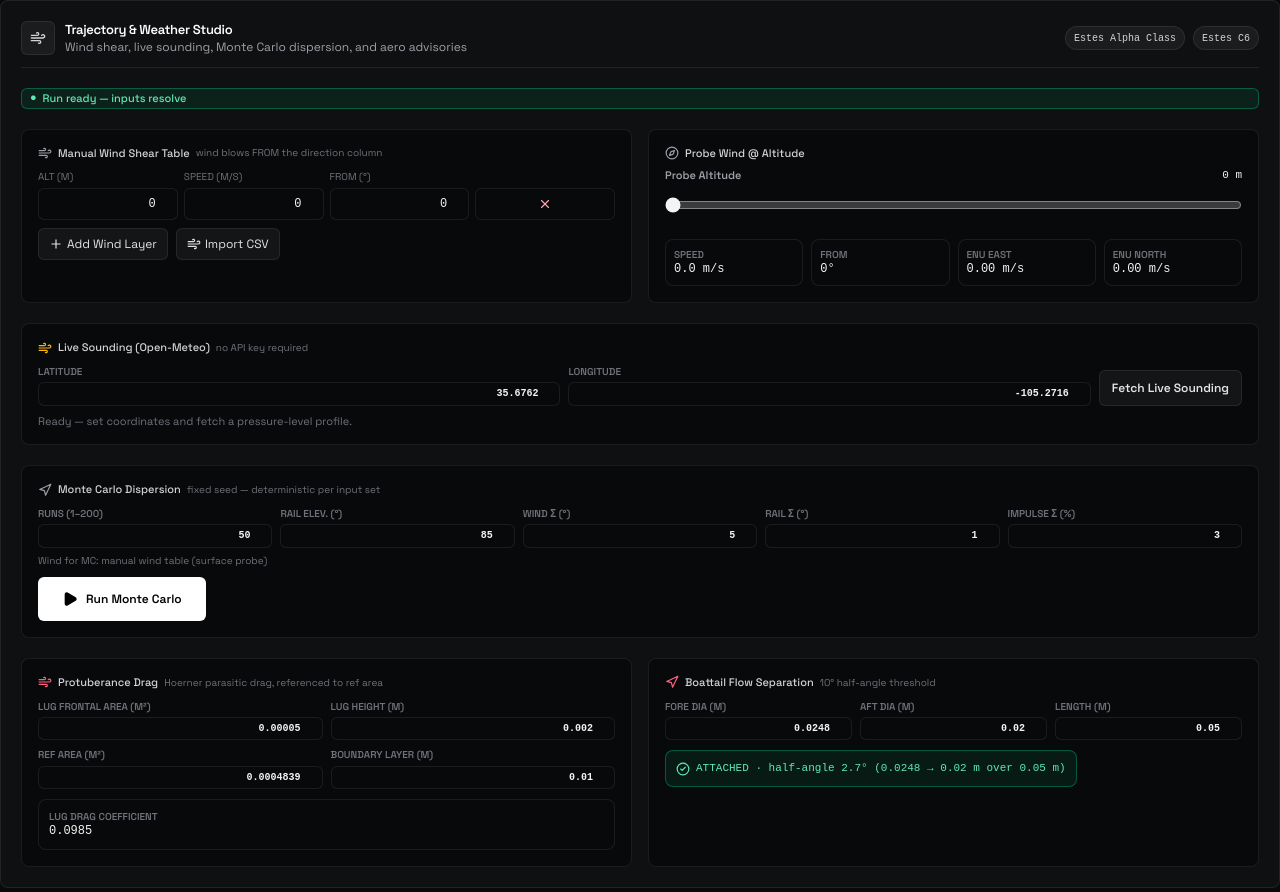
TrajectoryStudio › lets the user pin the rail to 90°, where the 1σ rail perturbation domain-rejects runs
This screenshot has width=1280, height=892.
Replace the text in the number field named "Monte Carlo run count" with "10" at [155, 536], box [38, 524, 272, 548]
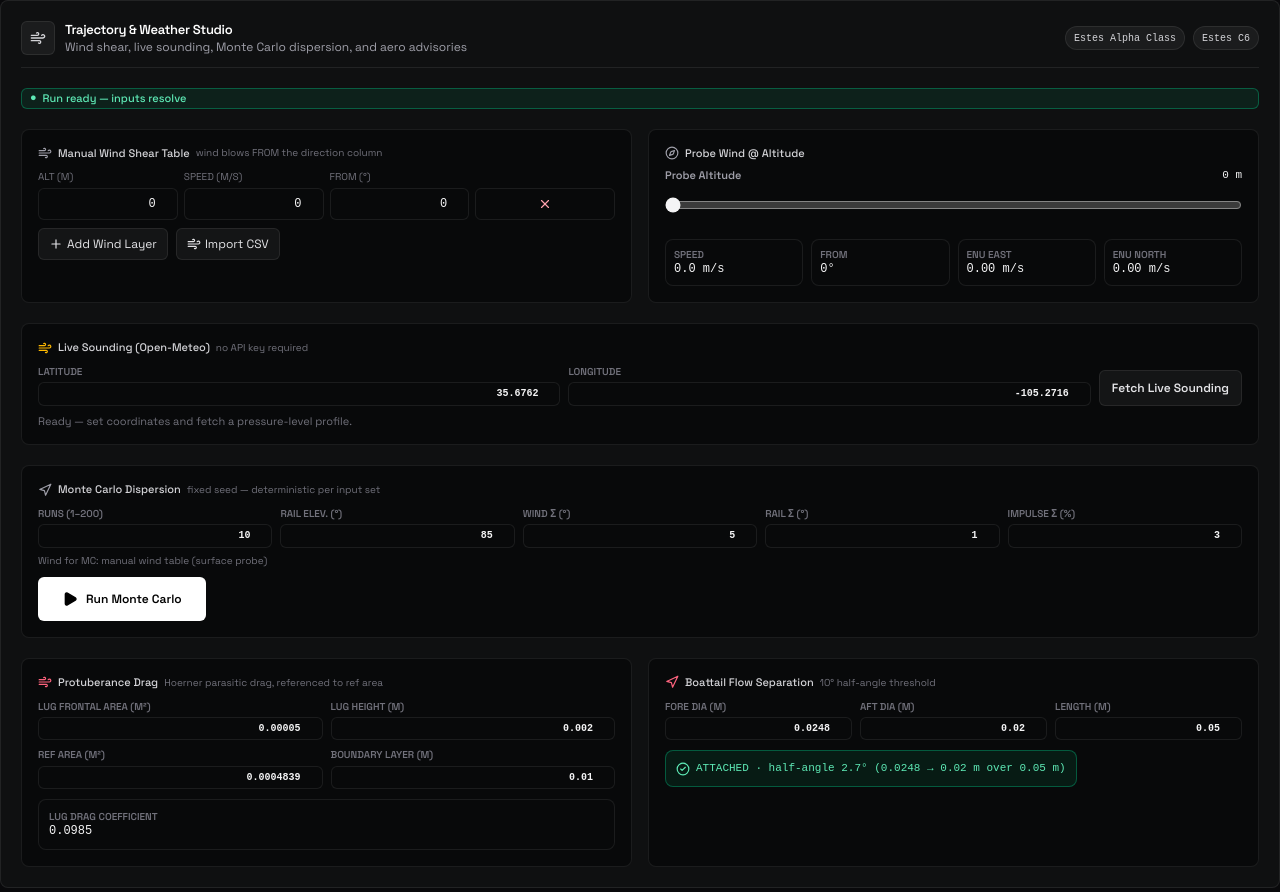
Replace the text in the number field named "Rail elevation (deg)" with "90" at [398, 536], box [280, 524, 515, 548]
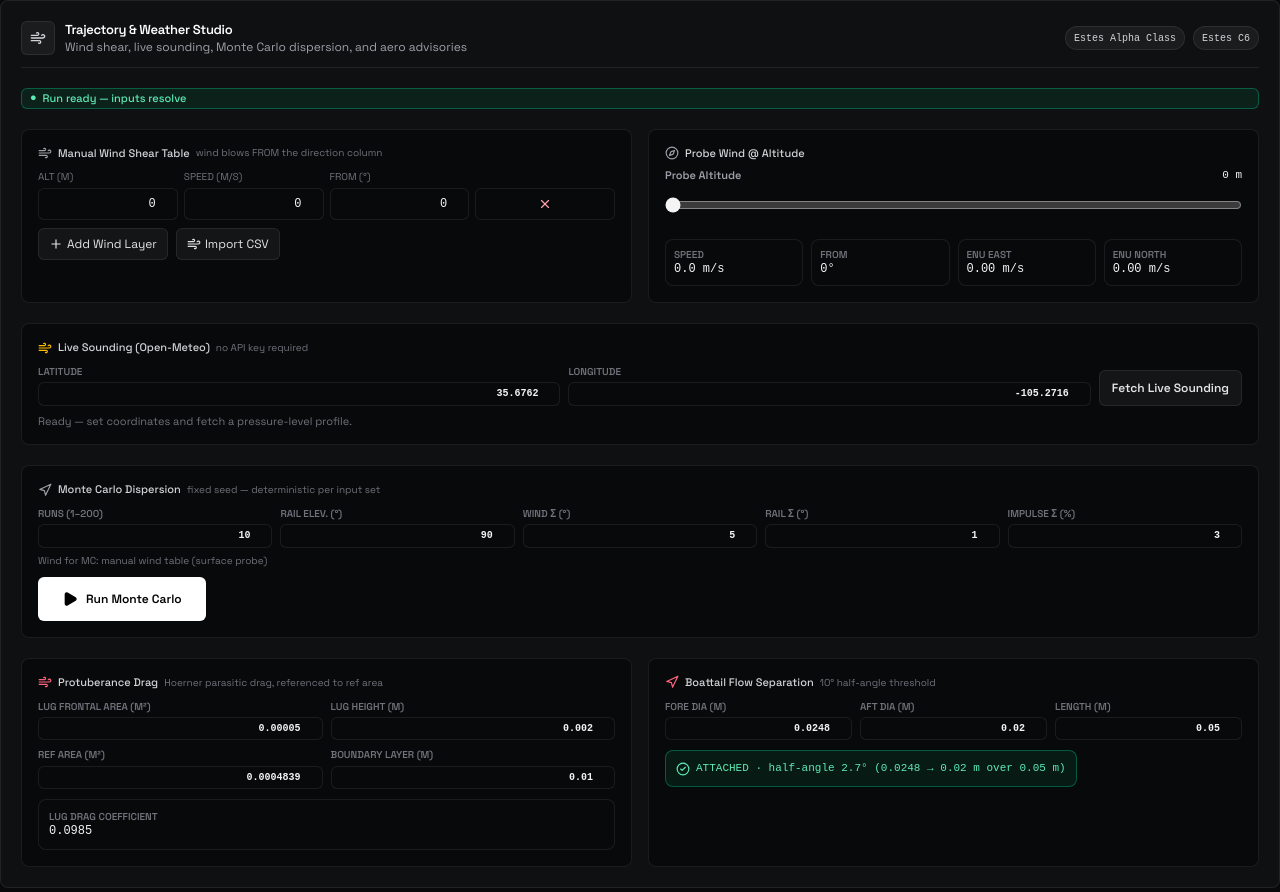
Replace the text in the number field named "Wind direction sigma (deg)" with "0" at [640, 536], box [523, 524, 757, 548]
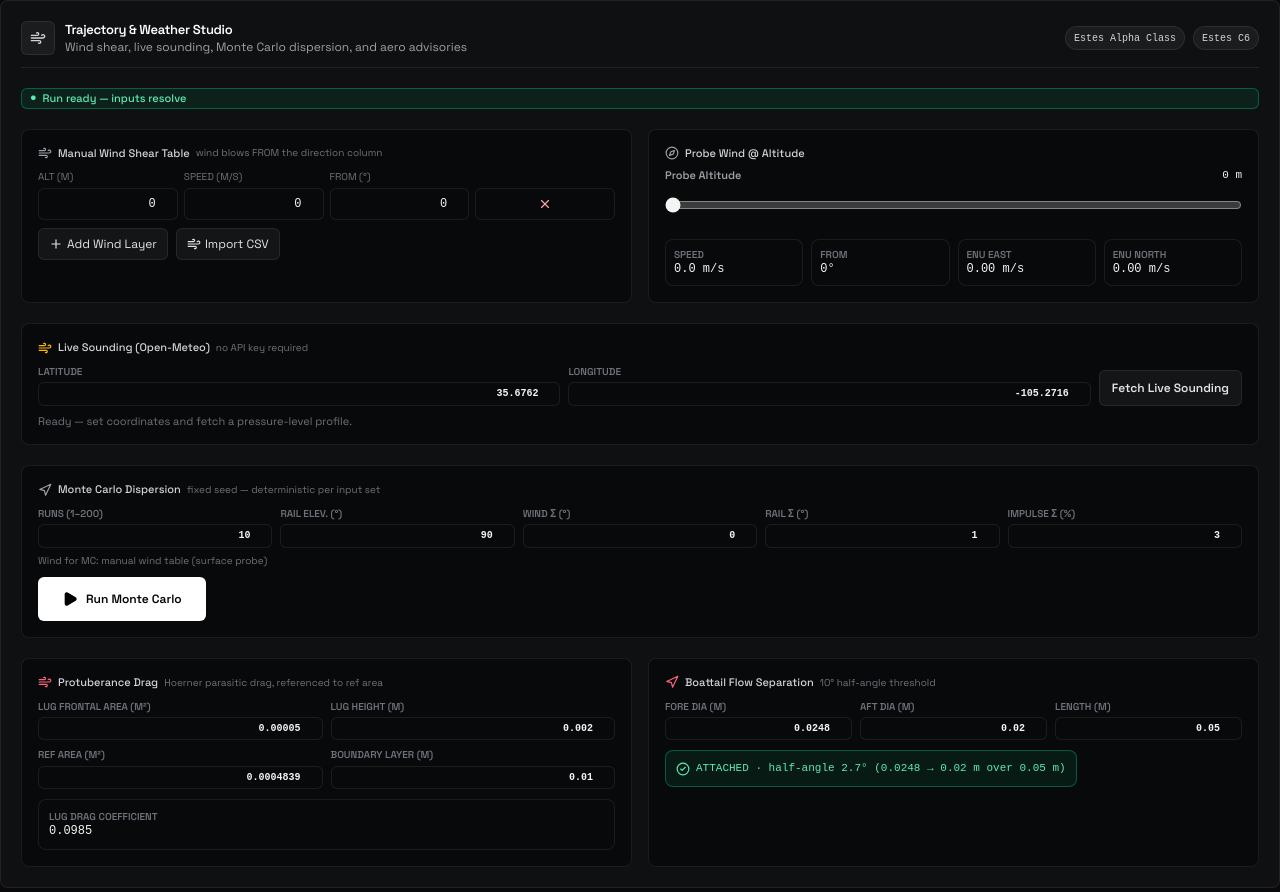
Replace the text in the number field named "Impulse sigma (%)" with "0" at [1125, 536], box [1008, 524, 1242, 548]
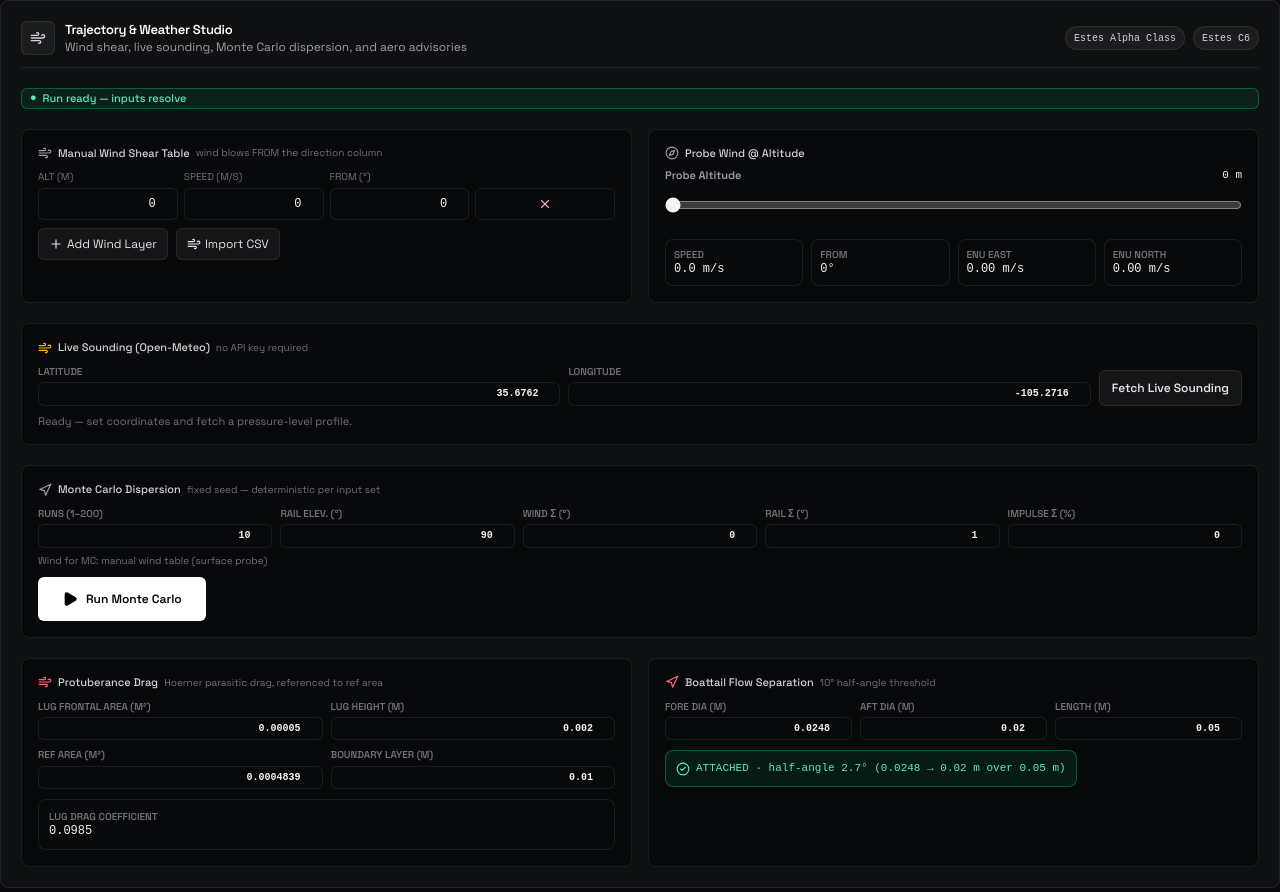
Click the button "Run Monte Carlo" at [122, 599], box [38, 577, 206, 621]
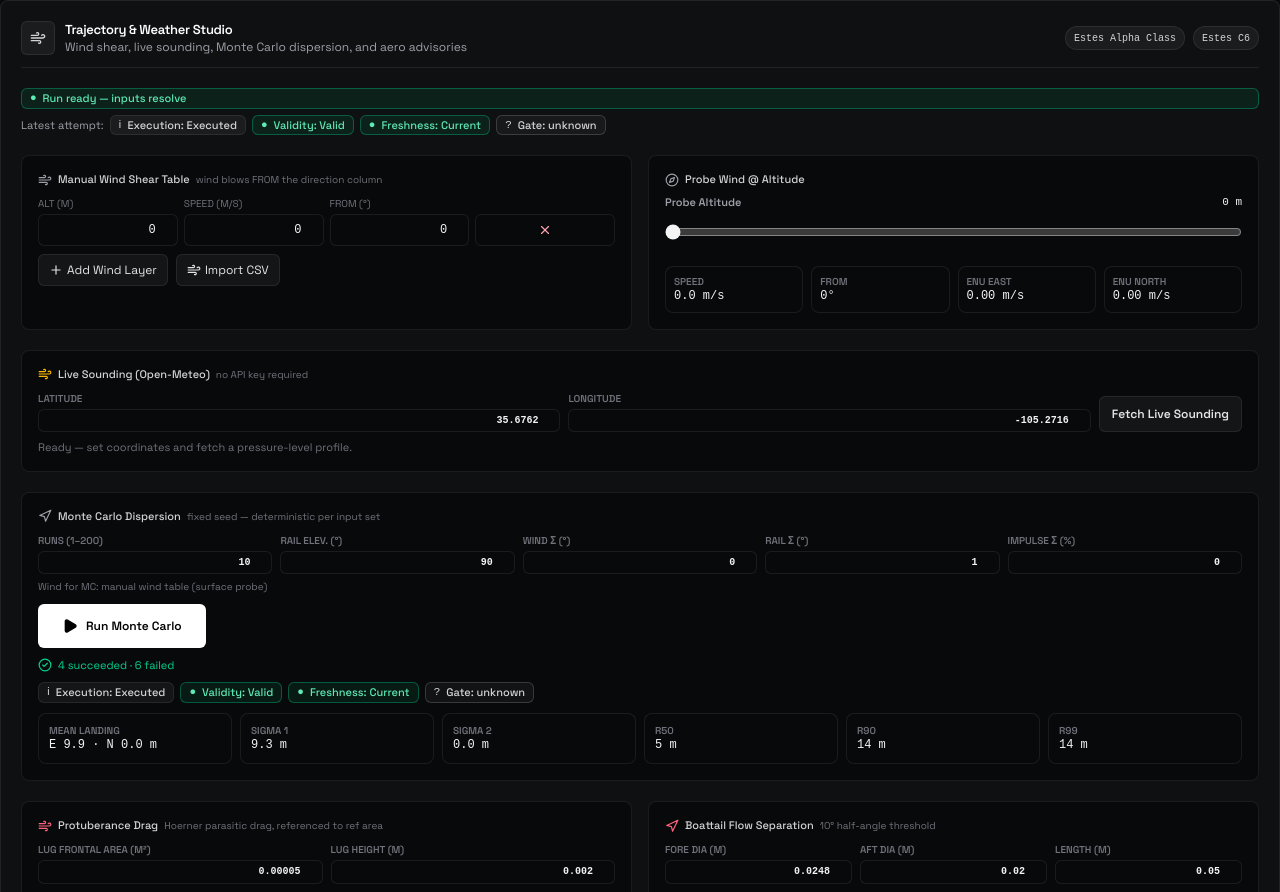
Result: the text "4 succeeded · 6 failed" is shown at [58, 658, 174, 672]
